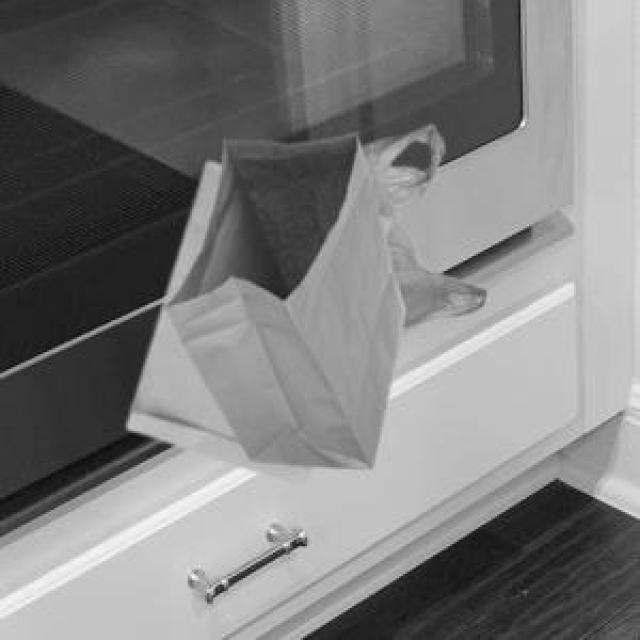paper: (160, 130, 401, 465), (124, 158, 308, 482)
